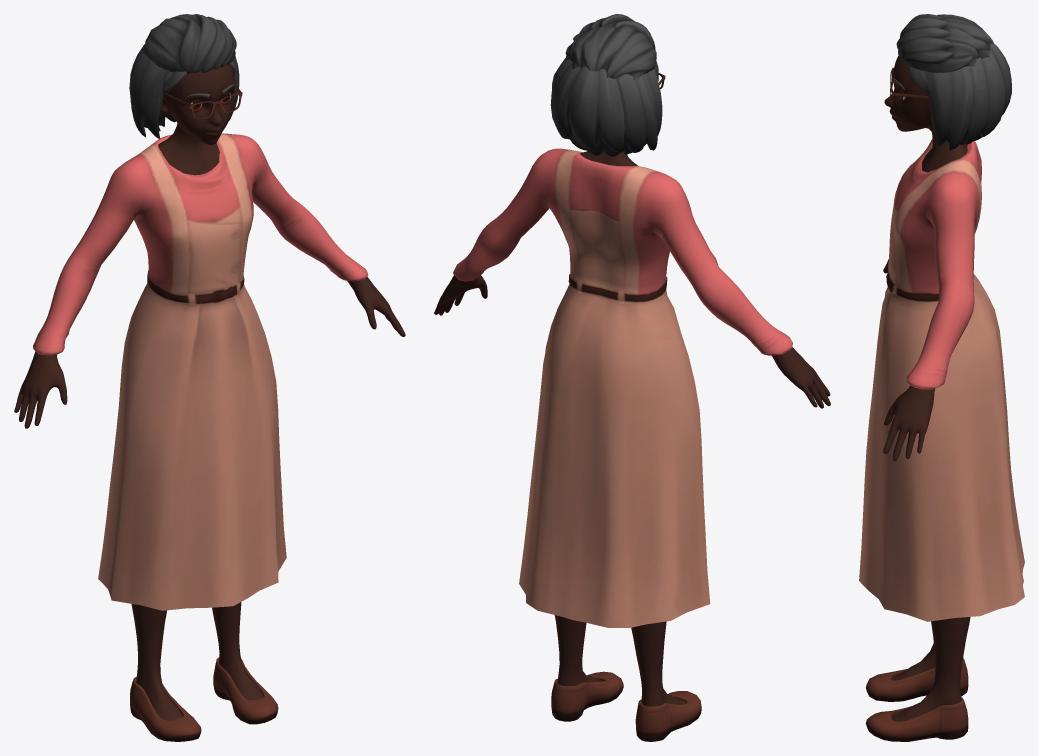
Rendered from Mama_Mesh.obj.
The picture shows the model from 3 angles, left to right: view 1: azimuth 30°, elevation 25°; view 2: azimuth 150°, elevation 25°; view 3: azimuth 270°, elevation 25°; orthographic projection.
Visible parts, largest first — view 1: Mama_Mesh_0; view 2: Mama_Mesh_0; view 3: Mama_Mesh_0.
Part boxes in pixels (<box>): Mama_Mesh_0: <box>14,14,405,741</box>; Mama_Mesh_0: <box>434,14,830,741</box>; Mama_Mesh_0: <box>859,14,1024,741</box>.
Bounding box in the file's own units: 1.06 × 1.84 × 0.395.
1 material, 1 textured.
